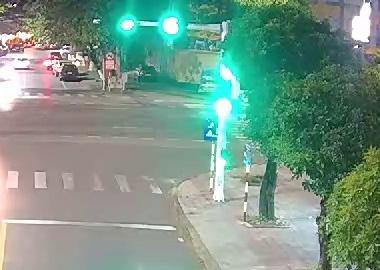green_light: (211, 63, 236, 117), (154, 15, 180, 37), (116, 13, 138, 33)
stop_line: (2, 215, 179, 232)
